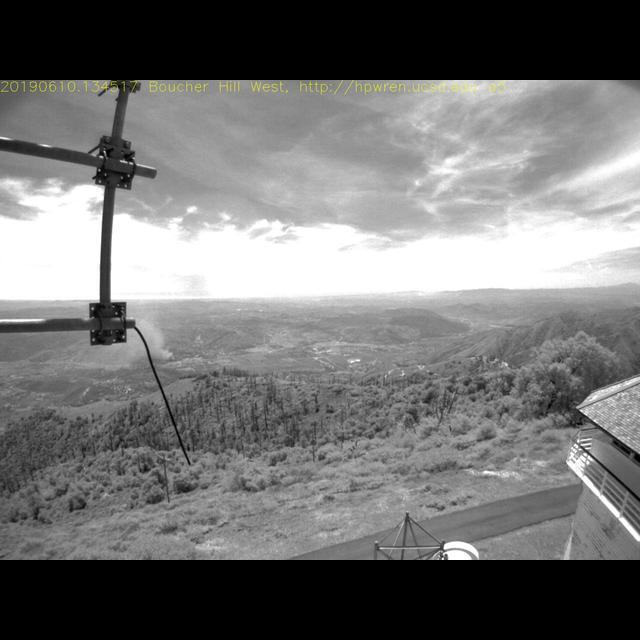Smoke: (134, 316, 175, 367)
